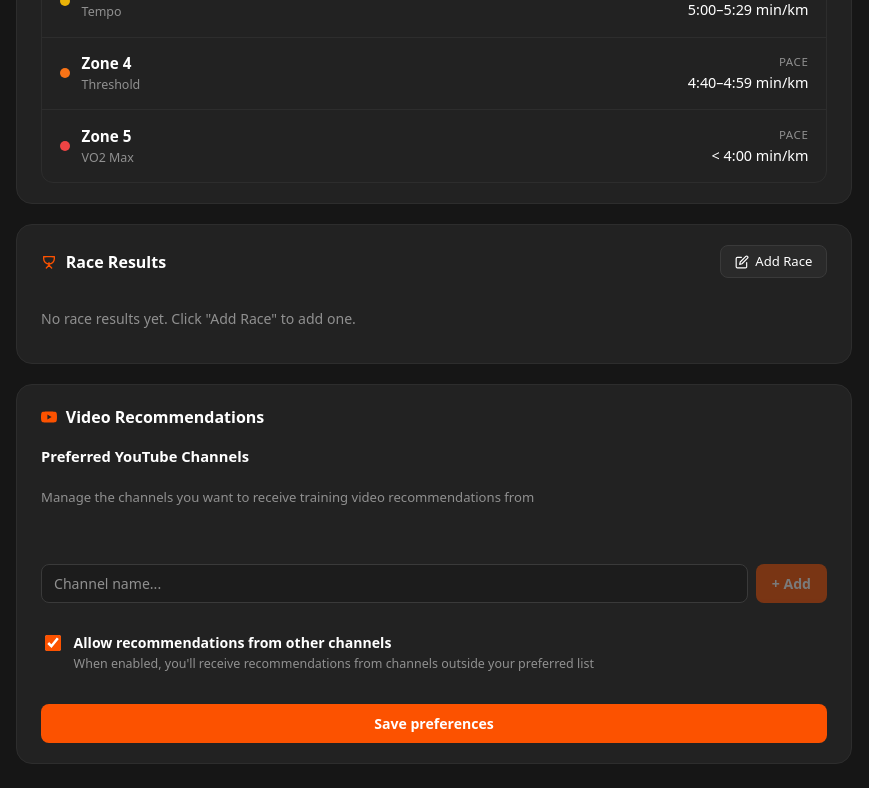
Test: ProfilePage › saves channel preferences via PUT /api/profile/video-channels
(page scrolled)
Check: the text "Video Recommendations" is shown, box x1=66 y1=406 x2=264 y2=430
# Add a channel then save
In the field labelled "Channel name": (394, 583) x1=41 y1=564 x2=748 y2=603, type "Sage Running"
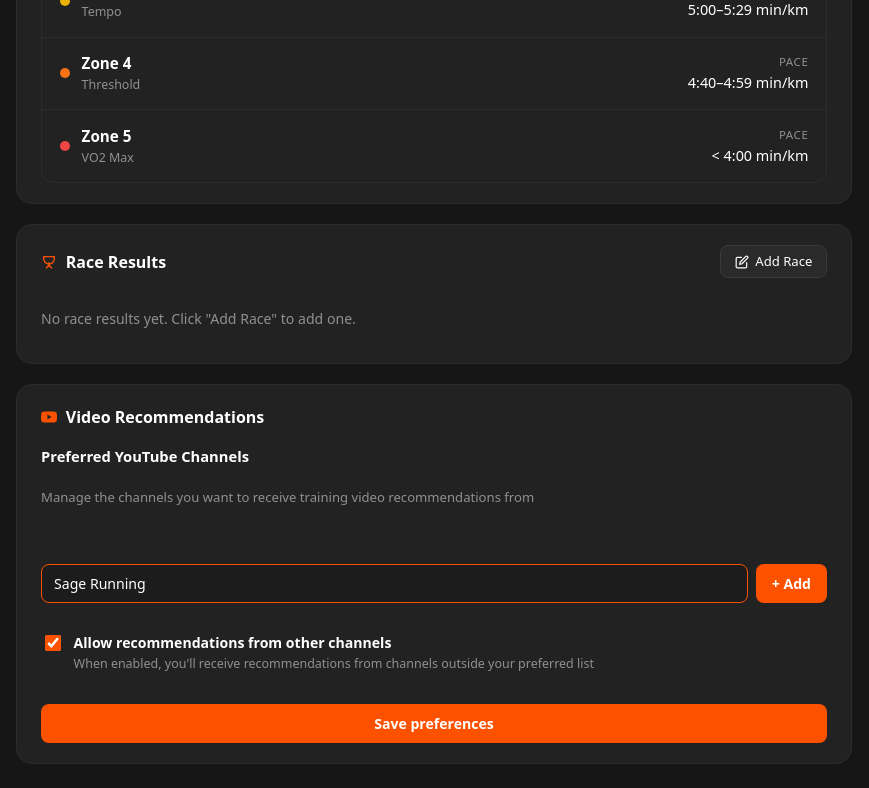
Click the button "+ Add": (791, 583) x1=756 y1=564 x2=827 y2=603
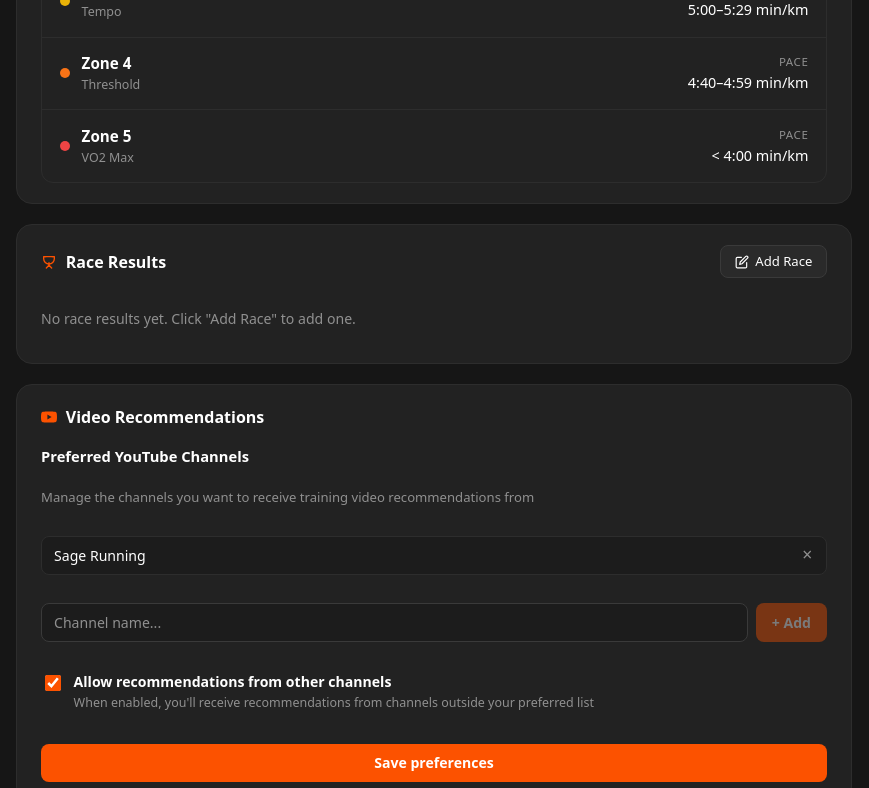
Click the button "Save preferences": (434, 763) x1=41 y1=744 x2=827 y2=782
(page scrolled)
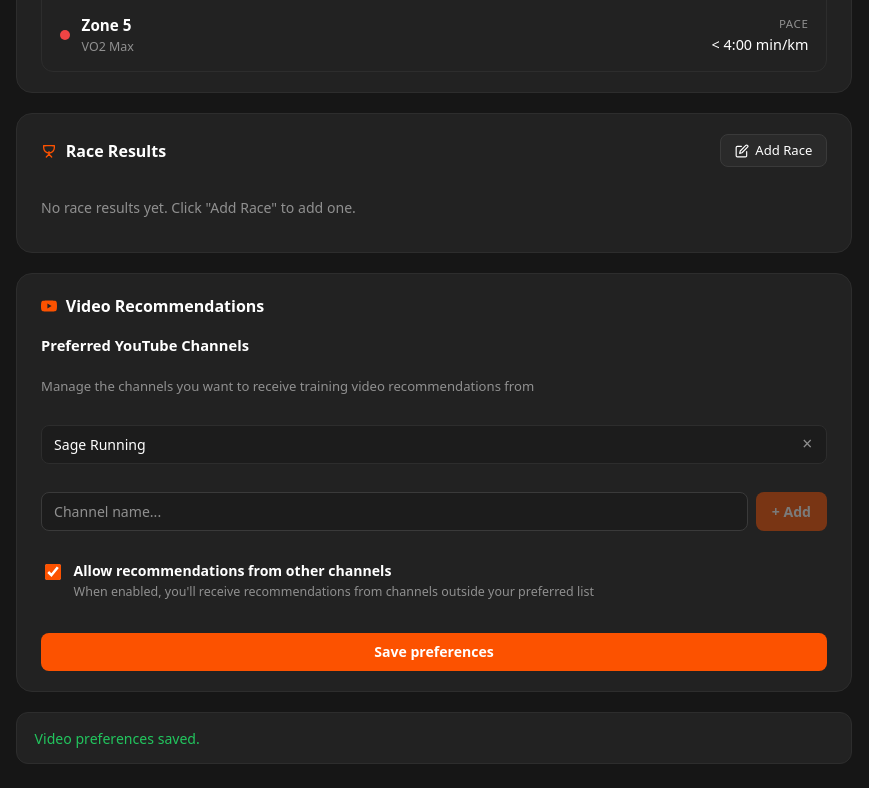
Check: the text "Video preferences saved." is shown, box x1=35 y1=729 x2=200 y2=748
